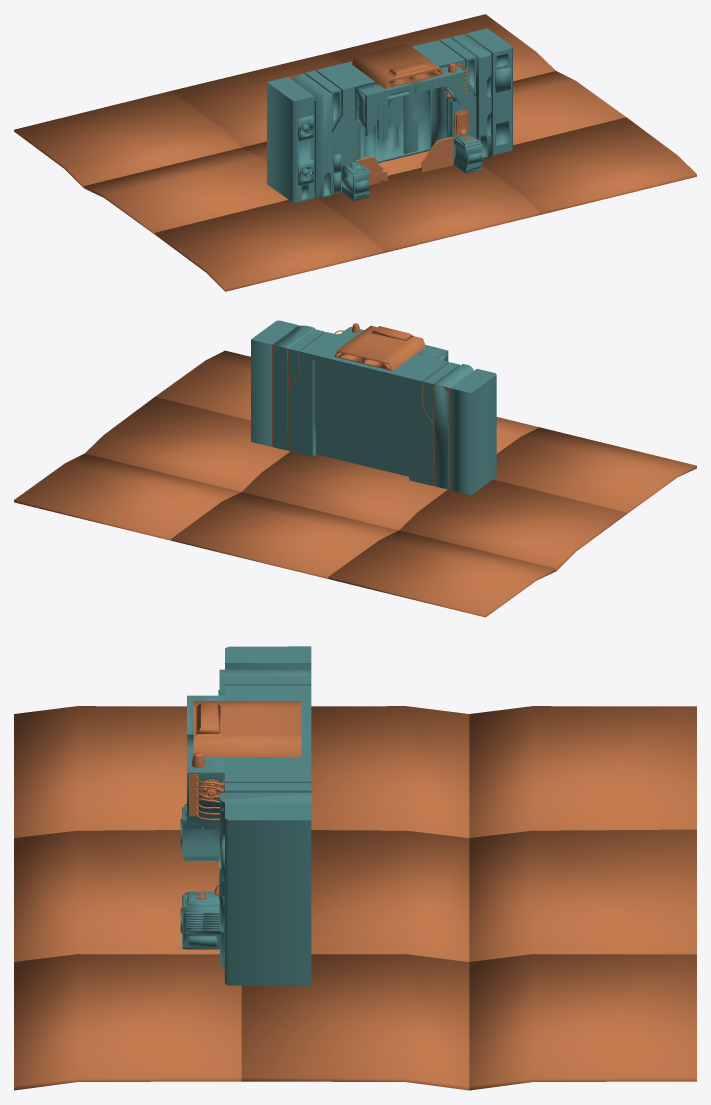
Rendered from Gate_Scifi_Engine_larg_OLDRUSTY.fbx.
3 views of the same model, one above another, from view 1: azimuth 30°, elevation 25°; view 2: azimuth 150°, elevation 25°; view 3: azimuth 270°, elevation 25° (orthographic). The views are drawn at different scales.
Parts seen in each view (by area): view 1: floor_low, flat_low, Gateright_low, Gateleft_low; view 2: floor_low, flat_low, Gateright_low, Gateleft_low; view 3: floor_low, flat_low.
Part boxes in pixels (<box>): floor_low: <box>14,14,696,291</box>; flat_low: <box>267,28,512,202</box>; Gateright_low: <box>381,89,431,161</box>; Gateleft_low: <box>356,101,383,162</box>; floor_low: <box>14,350,696,617</box>; flat_low: <box>251,320,496,495</box>; Gateright_low: <box>316,361,364,465</box>; Gateleft_low: <box>364,373,409,476</box>; floor_low: <box>14,706,696,1090</box>; flat_low: <box>180,646,311,985</box>.
Bounding box in the file's own units: 3283 × 808 × 2547.
